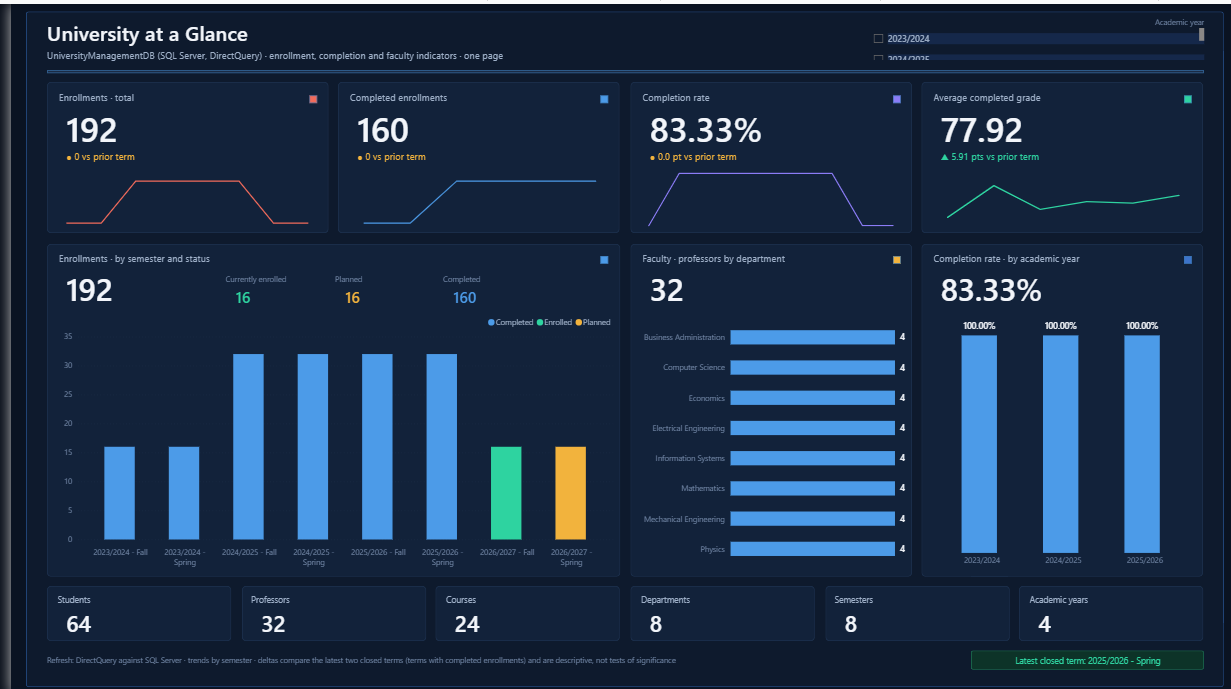

This screenshot's page, from the dashboard's own definition file:
{"tool":"powerbi","page":{"name":"University at a Glance","canvas":[1920,1080],"ordinal":0},"visuals":[{"type":"shape","box":[24,12,1872,1056],"z":100},{"type":"textbox","box":[56,24,1200,46],"z":200},{"type":"textbox","box":[56,70,1250,26],"z":300},{"type":"textbox","box":[1340,18,524,18],"z":400},{"type":"slicer","fields":{"Values":["Semester.AcademicYear"]},"box":[1340,38,524,50],"z":500},{"type":"shape","box":[56,104,1808,5],"z":600},{"type":"shape","box":[56,122,440,236],"z":700},{"type":"textbox","box":[74,136,370,24],"z":800},{"type":"shape","box":[466,142,12,12],"z":900},{"type":"cardVisual","fields":{"Data":["Enrollment.Total Enrollments"]},"box":[70,162,412,62],"z":1000},{"type":"cardVisual","fields":{"Data":["Enrollment.KPI Delta Enrollments"]},"box":[70,224,412,26],"z":1100},{"type":"lineChart","fields":{"Category":["Semester.Semester Label"],"Y":["Enrollment.Total Enrollments"]},"box":[66,256,420,92],"z":1200},{"type":"shape","box":[512,122,440,236],"z":1300},{"type":"textbox","box":[530,136,370,24],"z":1400},{"type":"shape","box":[922,142,12,12],"z":1500},{"type":"cardVisual","fields":{"Data":["Enrollment.Completed Enrollments"]},"box":[526,162,412,62],"z":1600},{"type":"cardVisual","fields":{"Data":["Enrollment.KPI Delta Completed"]},"box":[526,224,412,26],"z":1700},{"type":"lineChart","fields":{"Category":["Semester.Semester Label"],"Y":["Enrollment.Completed Enrollments"]},"box":[522,256,420,92],"z":1800},{"type":"shape","box":[968,122,440,236],"z":1900},{"type":"textbox","box":[986,136,370,24],"z":2000},{"type":"shape","box":[1378,142,12,12],"z":2100},{"type":"cardVisual","fields":{"Data":["Enrollment.Enrollment Completion Rate"]},"box":[982,162,412,62],"z":2200},{"type":"cardVisual","fields":{"Data":["Enrollment.KPI Delta Completion Rate"]},"box":[982,224,412,26],"z":2300},{"type":"lineChart","fields":{"Category":["Semester.Semester Label"],"Y":["Enrollment.Enrollment Completion Rate by Year"]},"box":[978,256,420,92],"z":2400},{"type":"shape","box":[1424,122,440,236],"z":2500},{"type":"textbox","box":[1442,136,370,24],"z":2600},{"type":"shape","box":[1834,142,12,12],"z":2700},{"type":"cardVisual","fields":{"Data":["Enrollment.Average Completed Grade"]},"box":[1438,162,412,62],"z":2800},{"type":"cardVisual","fields":{"Data":["Enrollment.KPI Delta Avg Grade"]},"box":[1438,224,412,26],"z":2900},{"type":"lineChart","fields":{"Category":["Semester.Semester Label"],"Y":["Enrollment.Average Completed Grade"]},"box":[1434,256,420,92],"z":3000},{"type":"shape","box":[56,374,896,520],"z":3100},{"type":"textbox","box":[74,388,826,24],"z":3200},{"type":"shape","box":[922,394,12,12],"z":3300},{"type":"cardVisual","fields":{"Data":["Enrollment.Total Enrollments"]},"box":[70,414,240,58],"z":3400},{"type":"textbox","box":[336,420,160,20],"z":3500},{"type":"cardVisual","fields":{"Data":["Enrollment.Currently Enrolled"]},"box":[336,440,160,32],"z":3600},{"type":"textbox","box":[506,420,160,20],"z":3700},{"type":"cardVisual","fields":{"Data":["Enrollment.Planned Enrollments"]},"box":[506,440,160,32],"z":3800},{"type":"textbox","box":[676,420,160,20],"z":3900},{"type":"cardVisual","fields":{"Data":["Enrollment.Completed Enrollments"]},"box":[676,440,160,32],"z":4000},{"type":"columnChart","fields":{"Category":["Semester.Semester Label"],"Y":["Enrollment.Total Enrollments"],"Series":["Enrollment.EnrollmentStatus"]},"box":[66,484,876,400],"z":4100},{"type":"shape","box":[968,374,440,520],"z":4200},{"type":"textbox","box":[986,388,370,24],"z":4300},{"type":"shape","box":[1378,394,12,12],"z":4400},{"type":"cardVisual","fields":{"Data":["Professor.Total Professors"]},"box":[982,414,240,58],"z":4500},{"type":"clusteredBarChart","fields":{"Category":["Department.DepartmentName"],"Y":["Professor.Total Professors"]},"box":[978,484,420,400],"z":4600},{"type":"shape","box":[1424,374,440,520],"z":4700},{"type":"textbox","box":[1442,388,370,24],"z":4800},{"type":"shape","box":[1834,394,12,12],"z":4900},{"type":"cardVisual","fields":{"Data":["Enrollment.Enrollment Completion Rate"]},"box":[1438,414,240,58],"z":5000},{"type":"clusteredColumnChart","fields":{"Category":["Semester.AcademicYear"],"Y":["Enrollment.Enrollment Completion Rate by Year"]},"box":[1434,484,420,400],"z":5100},{"type":"shape","box":[56,910,288,86],"z":5200},{"type":"textbox","box":[72,922,256,20],"z":5300},{"type":"cardVisual","fields":{"Data":["Student.Total Students"]},"box":[70,944,260,44],"z":5400},{"type":"shape","box":[360,910,288,86],"z":5500},{"type":"textbox","box":[376,922,256,20],"z":5600},{"type":"cardVisual","fields":{"Data":["Professor.Total Professors"]},"box":[374,944,260,44],"z":5700},{"type":"shape","box":[664,910,288,86],"z":5800},{"type":"textbox","box":[680,922,256,20],"z":5900},{"type":"cardVisual","fields":{"Data":["Course.Total Courses"]},"box":[678,944,260,44],"z":6000},{"type":"shape","box":[968,910,288,86],"z":6100},{"type":"textbox","box":[984,922,256,20],"z":6200},{"type":"cardVisual","fields":{"Data":["Department.Total Departments"]},"box":[982,944,260,44],"z":6300},{"type":"shape","box":[1272,910,288,86],"z":6400},{"type":"textbox","box":[1288,922,256,20],"z":6500},{"type":"cardVisual","fields":{"Data":["Semester.Total Semesters"]},"box":[1286,944,260,44],"z":6600},{"type":"shape","box":[1576,910,288,86],"z":6700},{"type":"textbox","box":[1592,922,256,20],"z":6800},{"type":"cardVisual","fields":{"Data":["Semester.Total Academic Years"]},"box":[1590,944,260,44],"z":6900},{"type":"textbox","box":[56,1014,1300,24],"z":7000},{"type":"shape","box":[1500,1010,364,30],"z":7100},{"type":"cardVisual","fields":{"Data":["Enrollment.KPI Latest Closed Term"]},"box":[1504,1012,356,26],"z":7200}]}

Visuals, with their boxes in screenshot pixels (x1, y1, x2, y2), scaled from the page's 1920x1080 canvas onto the 1231x689 screenshot:
shape: box=[15, 8, 1216, 681]
textbox: box=[36, 15, 805, 45]
textbox: box=[36, 45, 837, 61]
textbox: box=[859, 11, 1195, 23]
slicer - Semester.AcademicYear: box=[859, 24, 1195, 56]
shape: box=[36, 66, 1195, 70]
shape: box=[36, 78, 318, 228]
textbox: box=[47, 87, 285, 102]
shape: box=[299, 91, 306, 98]
cardVisual - Enrollment.Total Enrollments: box=[45, 103, 309, 143]
cardVisual - Enrollment.KPI Delta Enrollments: box=[45, 143, 309, 159]
lineChart - Semester.Semester Label x Enrollment.Total Enrollments: box=[42, 163, 312, 222]
shape: box=[328, 78, 610, 228]
textbox: box=[340, 87, 577, 102]
shape: box=[591, 91, 599, 98]
cardVisual - Enrollment.Completed Enrollments: box=[337, 103, 601, 143]
cardVisual - Enrollment.KPI Delta Completed: box=[337, 143, 601, 159]
lineChart - Semester.Semester Label x Enrollment.Completed Enrollments: box=[335, 163, 604, 222]
shape: box=[621, 78, 903, 228]
textbox: box=[632, 87, 869, 102]
shape: box=[883, 91, 891, 98]
cardVisual - Enrollment.Enrollment Completion Rate: box=[630, 103, 894, 143]
cardVisual - Enrollment.KPI Delta Completion Rate: box=[630, 143, 894, 159]
lineChart - Semester.Semester Label x Enrollment.Enrollment Completion Rate by Year: box=[627, 163, 896, 222]
shape: box=[913, 78, 1195, 228]
textbox: box=[925, 87, 1162, 102]
shape: box=[1176, 91, 1184, 98]
cardVisual - Enrollment.Average Completed Grade: box=[922, 103, 1186, 143]
cardVisual - Enrollment.KPI Delta Avg Grade: box=[922, 143, 1186, 159]
lineChart - Semester.Semester Label x Enrollment.Average Completed Grade: box=[919, 163, 1189, 222]
shape: box=[36, 239, 610, 570]
textbox: box=[47, 248, 577, 263]
shape: box=[591, 251, 599, 259]
cardVisual - Enrollment.Total Enrollments: box=[45, 264, 199, 301]
textbox: box=[215, 268, 318, 281]
cardVisual - Enrollment.Currently Enrolled: box=[215, 281, 318, 301]
textbox: box=[324, 268, 427, 281]
cardVisual - Enrollment.Planned Enrollments: box=[324, 281, 427, 301]
textbox: box=[433, 268, 536, 281]
cardVisual - Enrollment.Completed Enrollments: box=[433, 281, 536, 301]
columnChart - Semester.Semester Label x Enrollment.Total Enrollments: box=[42, 309, 604, 564]
shape: box=[621, 239, 903, 570]
textbox: box=[632, 248, 869, 263]
shape: box=[883, 251, 891, 259]
cardVisual - Professor.Total Professors: box=[630, 264, 783, 301]
clusteredBarChart - Department.DepartmentName x Professor.Total Professors: box=[627, 309, 896, 564]
shape: box=[913, 239, 1195, 570]
textbox: box=[925, 248, 1162, 263]
shape: box=[1176, 251, 1184, 259]
cardVisual - Enrollment.Enrollment Completion Rate: box=[922, 264, 1076, 301]
clusteredColumnChart - Semester.AcademicYear x Enrollment.Enrollment Completion Rate by Year: box=[919, 309, 1189, 564]
shape: box=[36, 581, 221, 635]
textbox: box=[46, 588, 210, 601]
cardVisual - Student.Total Students: box=[45, 602, 212, 630]
shape: box=[231, 581, 415, 635]
textbox: box=[241, 588, 405, 601]
cardVisual - Professor.Total Professors: box=[240, 602, 406, 630]
shape: box=[426, 581, 610, 635]
textbox: box=[436, 588, 600, 601]
cardVisual - Course.Total Courses: box=[435, 602, 601, 630]
shape: box=[621, 581, 805, 635]
textbox: box=[631, 588, 795, 601]
cardVisual - Department.Total Departments: box=[630, 602, 796, 630]
shape: box=[816, 581, 1000, 635]
textbox: box=[826, 588, 990, 601]
cardVisual - Semester.Total Semesters: box=[825, 602, 991, 630]
shape: box=[1010, 581, 1195, 635]
textbox: box=[1021, 588, 1185, 601]
cardVisual - Semester.Total Academic Years: box=[1019, 602, 1186, 630]
textbox: box=[36, 647, 869, 662]
shape: box=[962, 644, 1195, 663]
cardVisual - Enrollment.KPI Latest Closed Term: box=[964, 646, 1193, 662]
